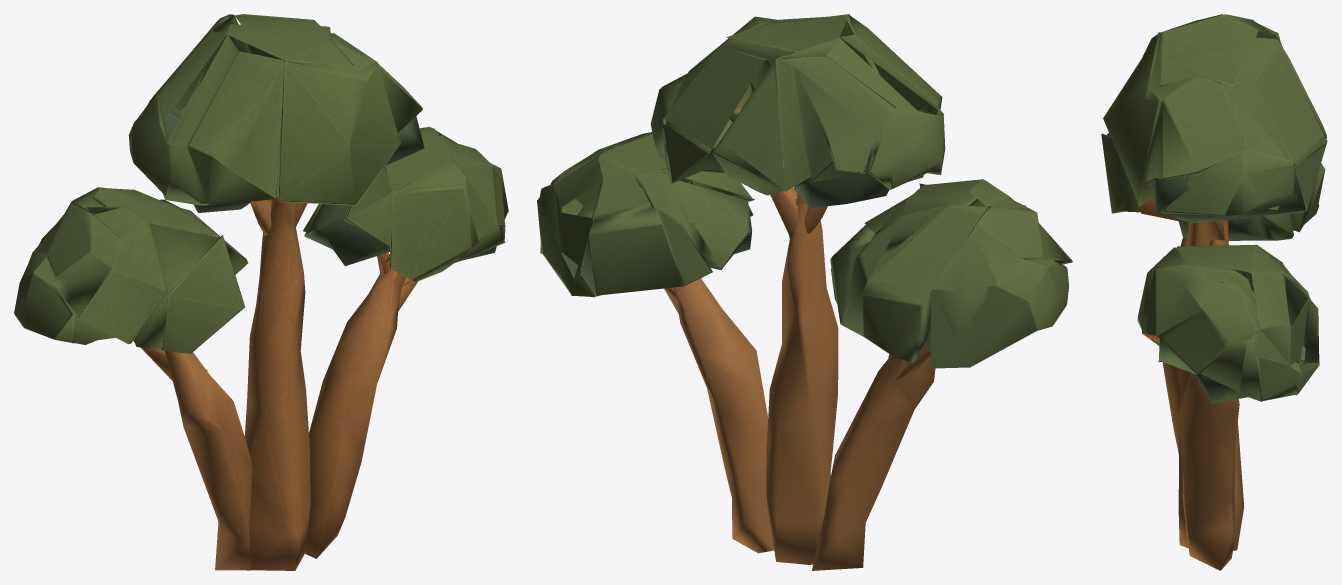
The model's file is AW-VAR-TREE-005-v0.2.glb.
3 views of the same model, side by side, from view 1: azimuth 30°, elevation 25°; view 2: azimuth 150°, elevation 25°; view 3: azimuth 270°, elevation 25° (orthographic). The views are drawn at different scales.
Parts seen in each view (by area): view 1: AW-VAR-TREE-005_meter_ground_pivot; view 2: AW-VAR-TREE-005_meter_ground_pivot; view 3: AW-VAR-TREE-005_meter_ground_pivot.
Part boxes in pixels (x1=…): AW-VAR-TREE-005_meter_ground_pivot: x1=14, y1=14, x2=508, y2=570; AW-VAR-TREE-005_meter_ground_pivot: x1=537, y1=14, x2=1072, y2=570; AW-VAR-TREE-005_meter_ground_pivot: x1=1101, y1=14, x2=1327, y2=570.
Bounding box in the file's own units: 2.95 × 3 × 1.21.
Materials: 1 (1 with a texture image).
